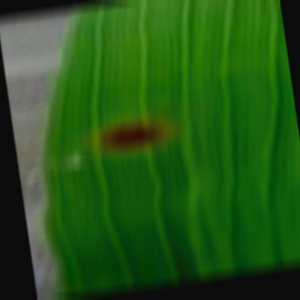Bacterial_Leaf_Blight: (78, 108, 177, 162)
